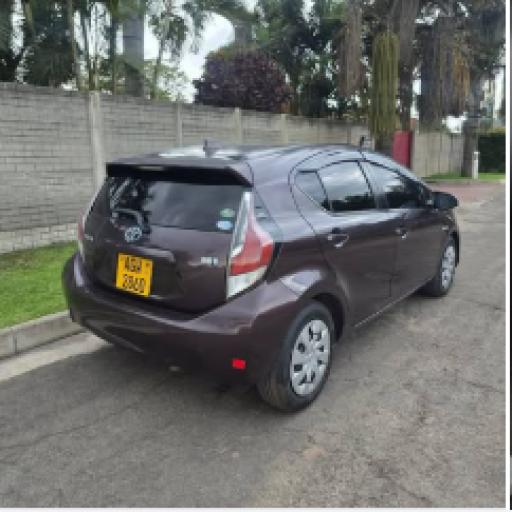number-plates: (117, 249, 152, 296)
